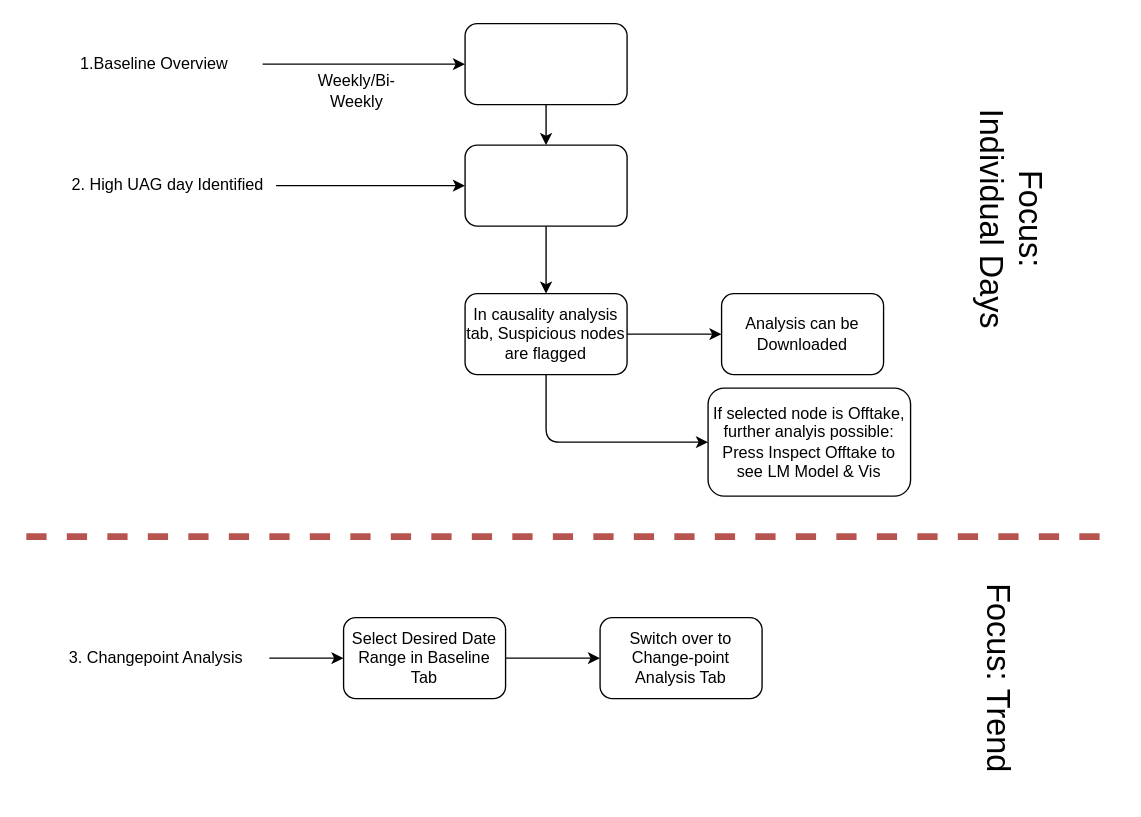
Image size: 1141x817. Some labels were removed from this diagram. Here are the shapes that lost their labels. From the top down, the centre of each, then its label:
At point 545,63: "Baseline UAG tab Select range and Press Calculate".
At point 545,185: "Select Day in Table 9 Press Explore Day".
